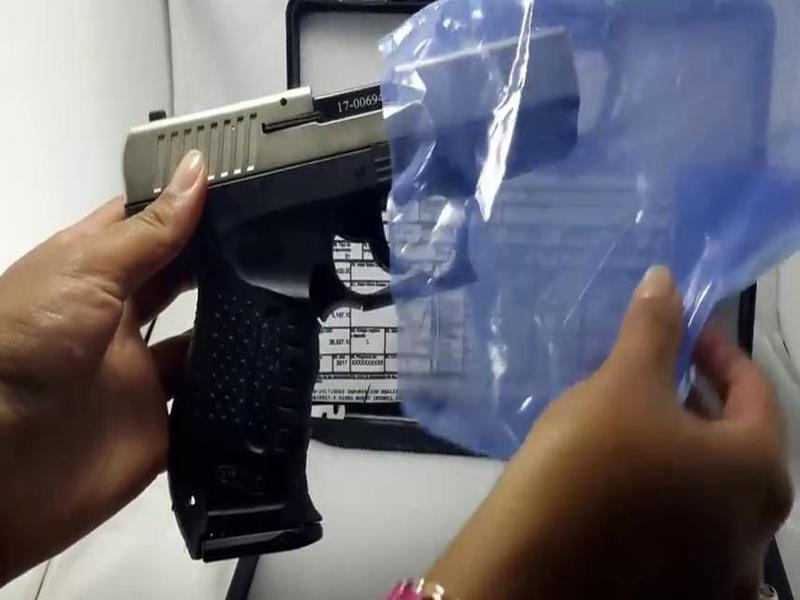Pistola: (93, 4, 657, 568)
